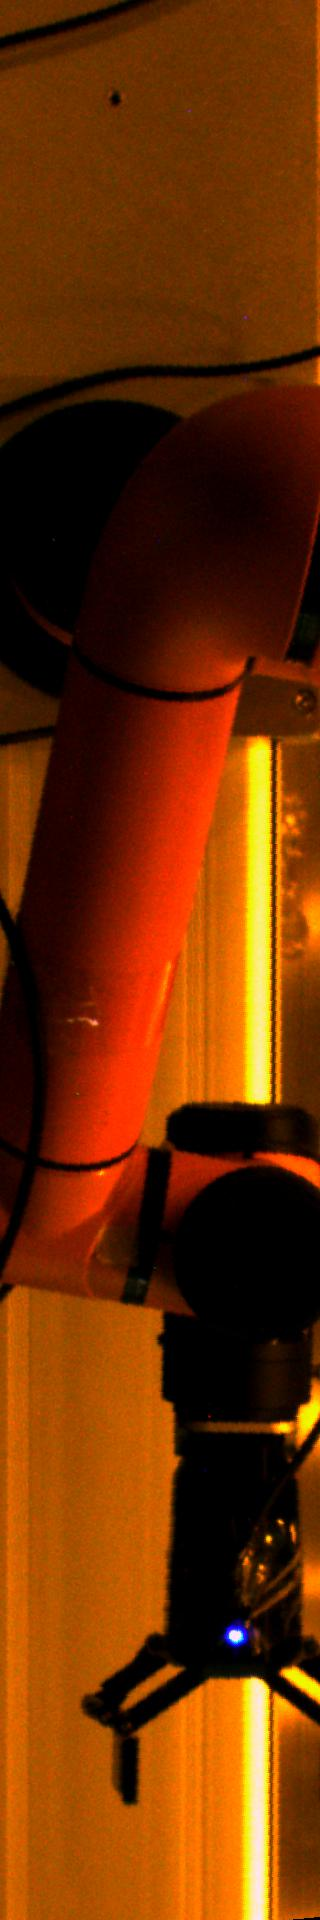keyPoint_1: (219, 1618, 250, 1648)
keyPoint_2: (99, 84, 129, 114)
